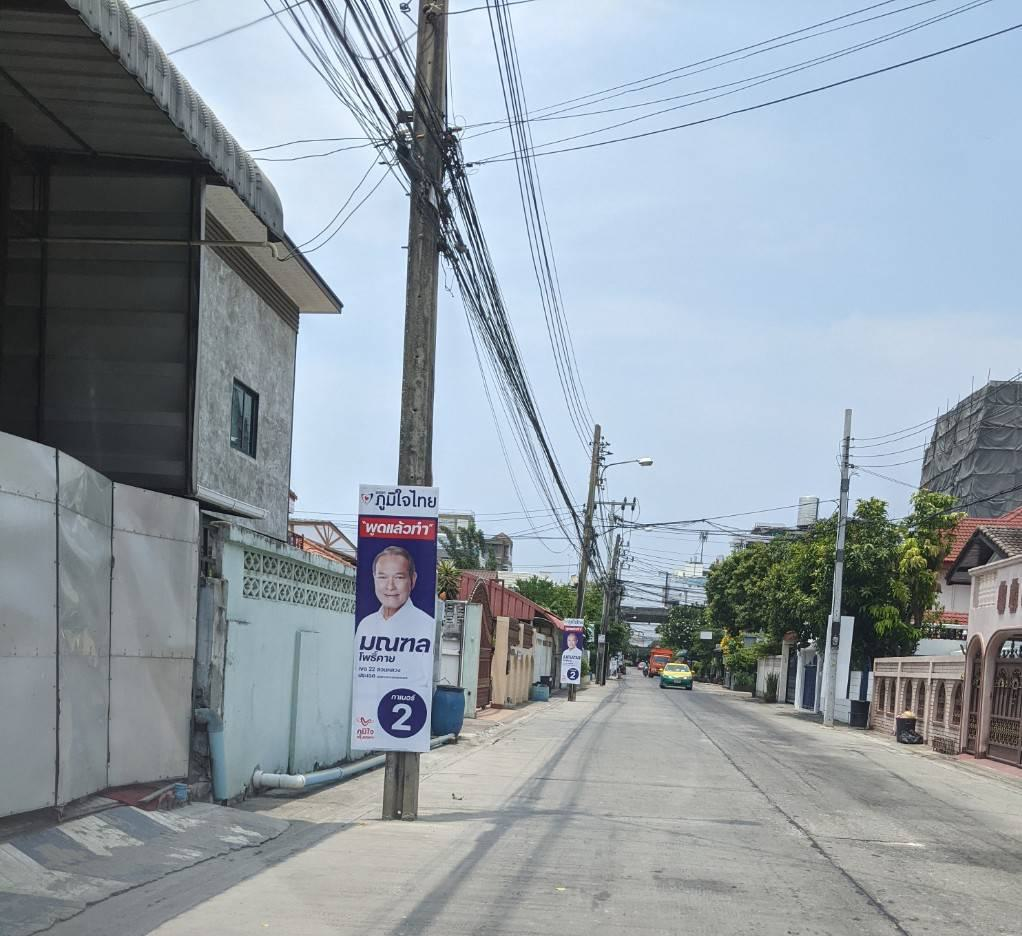Banner: (349, 480, 435, 768)
